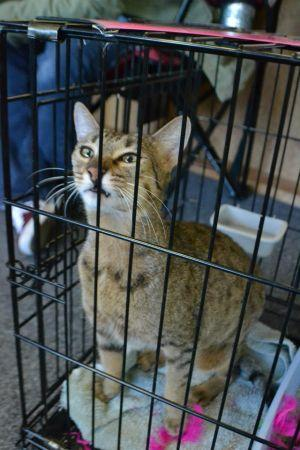bengal: (61, 88, 201, 225)
